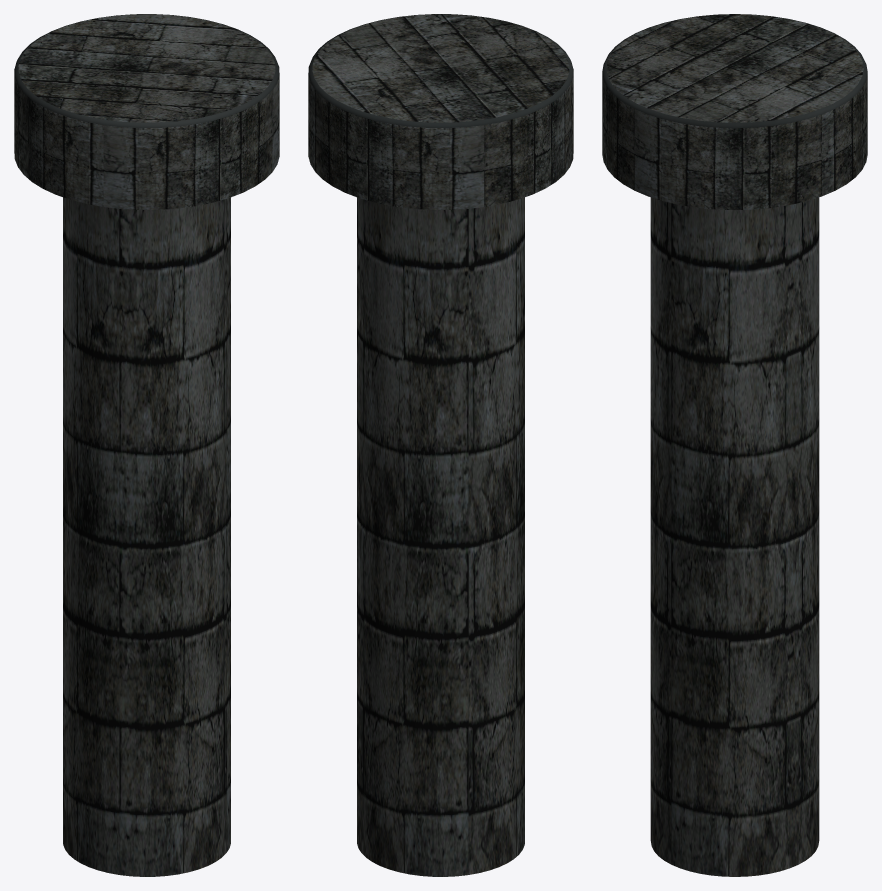
Rendered from Badcat_elevator.dae.
3 views of the same model, side by side, from view 1: azimuth 30°, elevation 25°; view 2: azimuth 150°, elevation 25°; view 3: azimuth 270°, elevation 25° (orthographic).
Parts seen in each view (by area): view 1: Cylinder; view 2: Cylinder; view 3: Cylinder.
Boxes of the visible parts, bbox=[...] form: Cylinder: bbox=[14, 14, 279, 876]; Cylinder: bbox=[308, 14, 573, 876]; Cylinder: bbox=[602, 14, 867, 876].
Size of the model in its own units: 0.9839 by 0.9839 by 3.16.
Materials: 1 (1 with a texture image).
